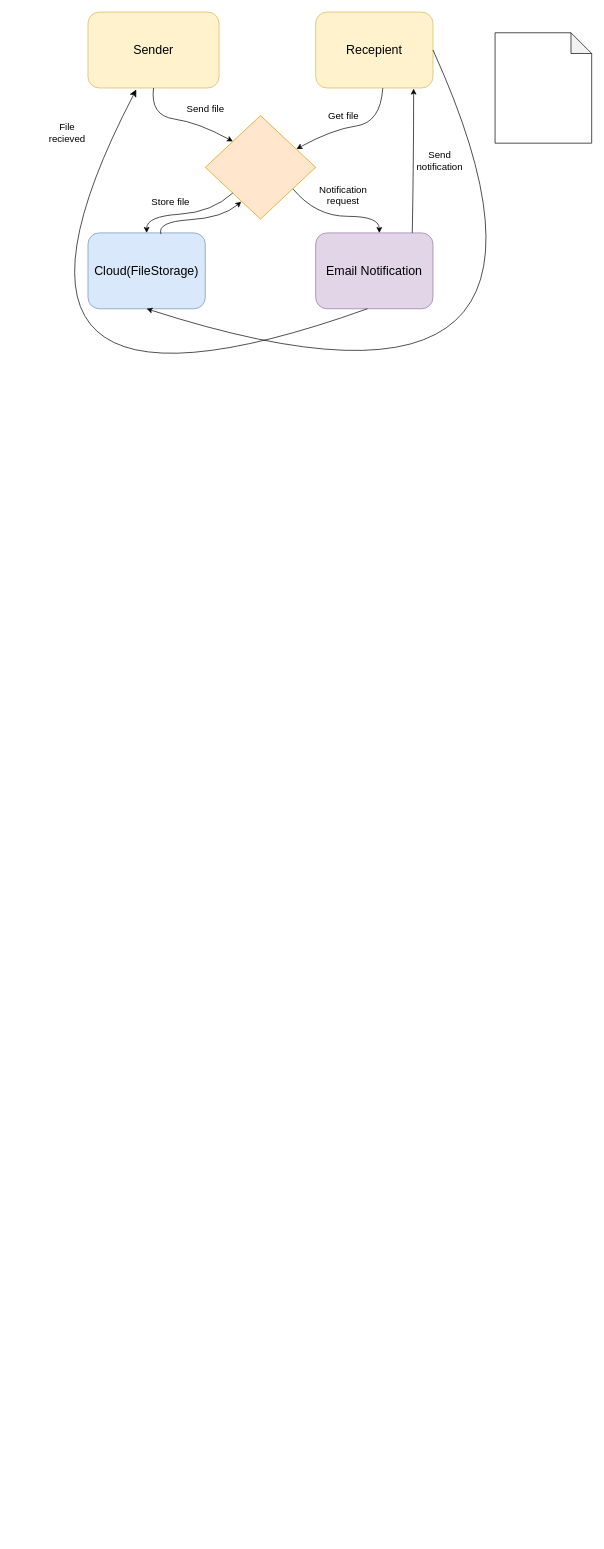
Image size: 604x1549. Some labels were removed from this diagram. The shapes that lost their labels are listed below. From the top down, each one's box as (x1, y1, x2, y2) in pixels, then its label:
(494, 32, 592, 143): User download file directly from Cloud using WebApp
(205, 115, 316, 219): File Transfer Service
